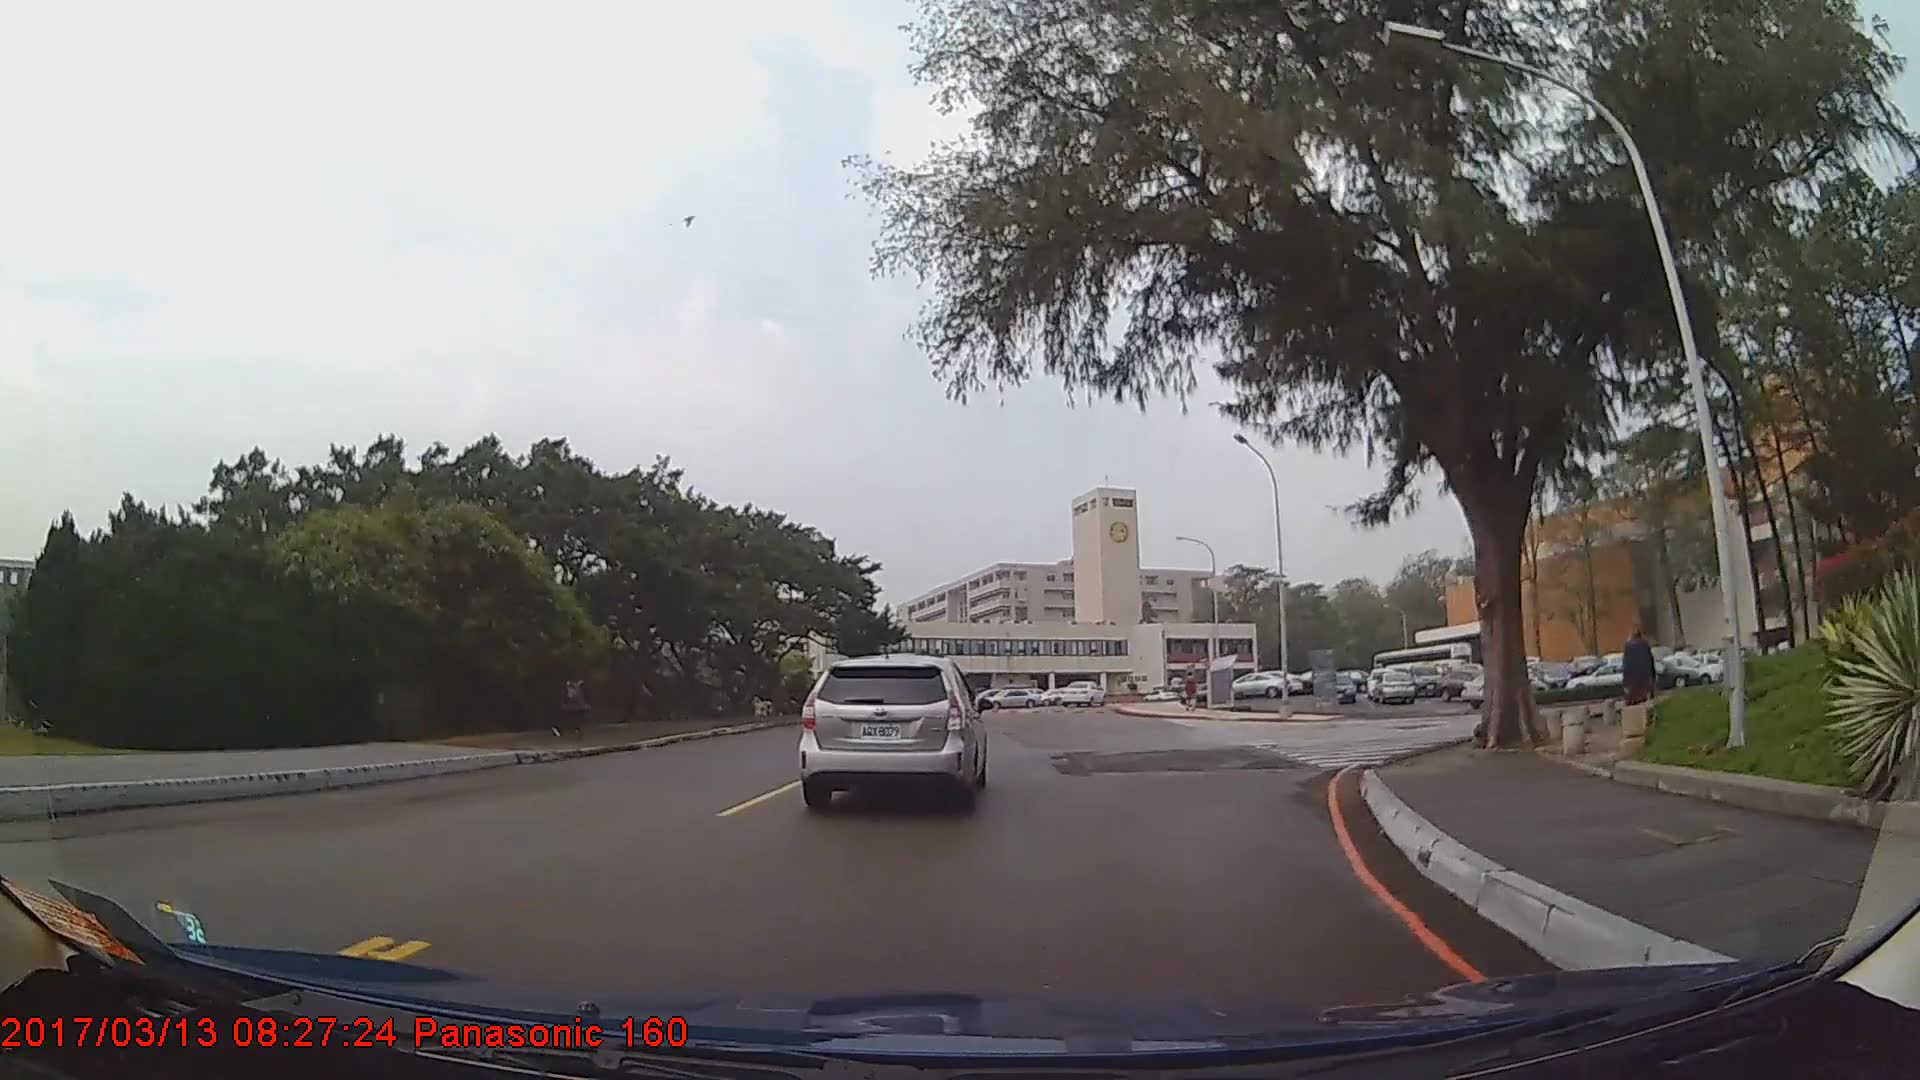pedestrian: (1621, 627, 1659, 743), (556, 670, 591, 740)
vehicle: (800, 651, 987, 811), (1222, 672, 1291, 697), (1374, 671, 1419, 708), (980, 687, 1042, 711), (1061, 679, 1106, 708), (1405, 662, 1443, 695), (1325, 673, 1358, 702)
